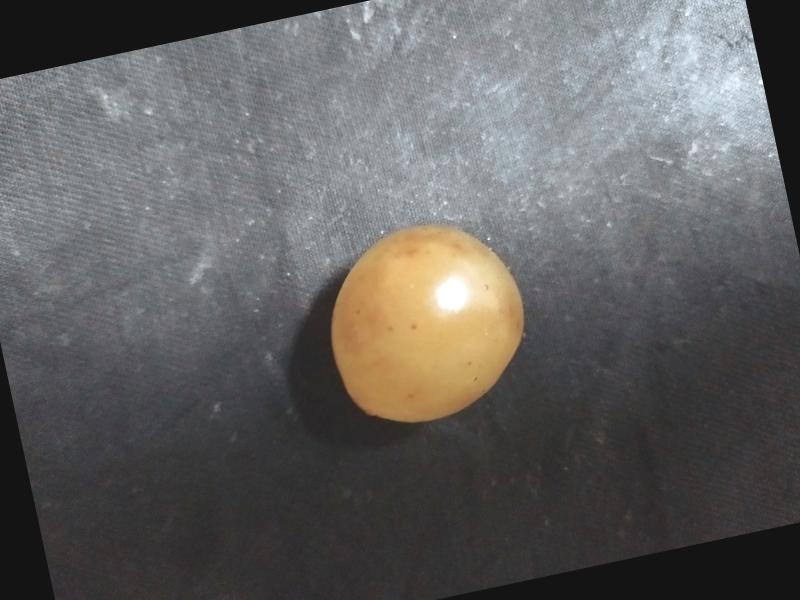Grape Rotten: (306, 204, 545, 439)
